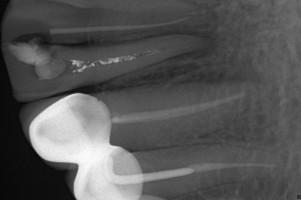Furcation Involvement: (185, 30, 222, 60)
